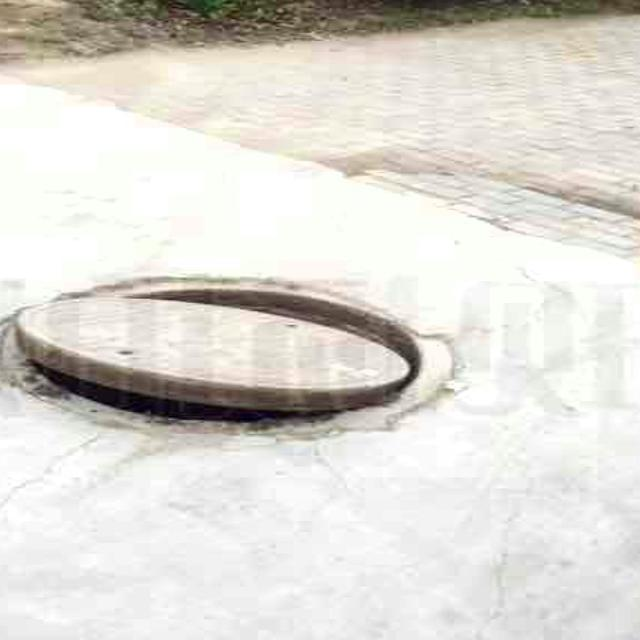uncovered: (0, 278, 455, 437)
